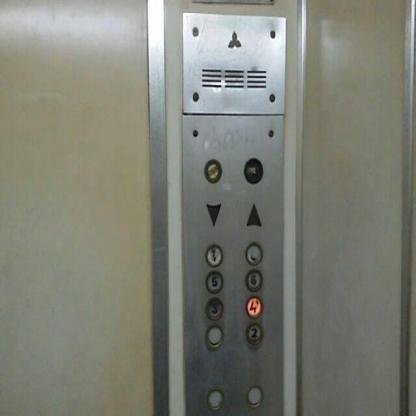2: (245, 322, 262, 344)
3: (205, 296, 223, 320)
5: (205, 269, 223, 293)
6: (245, 269, 262, 291)
blur: (244, 242, 262, 265), (245, 296, 262, 317), (206, 244, 222, 266)
empty: (206, 386, 223, 410), (206, 324, 223, 347), (246, 385, 262, 406)
text_blur: (243, 157, 263, 184), (204, 158, 222, 183)
